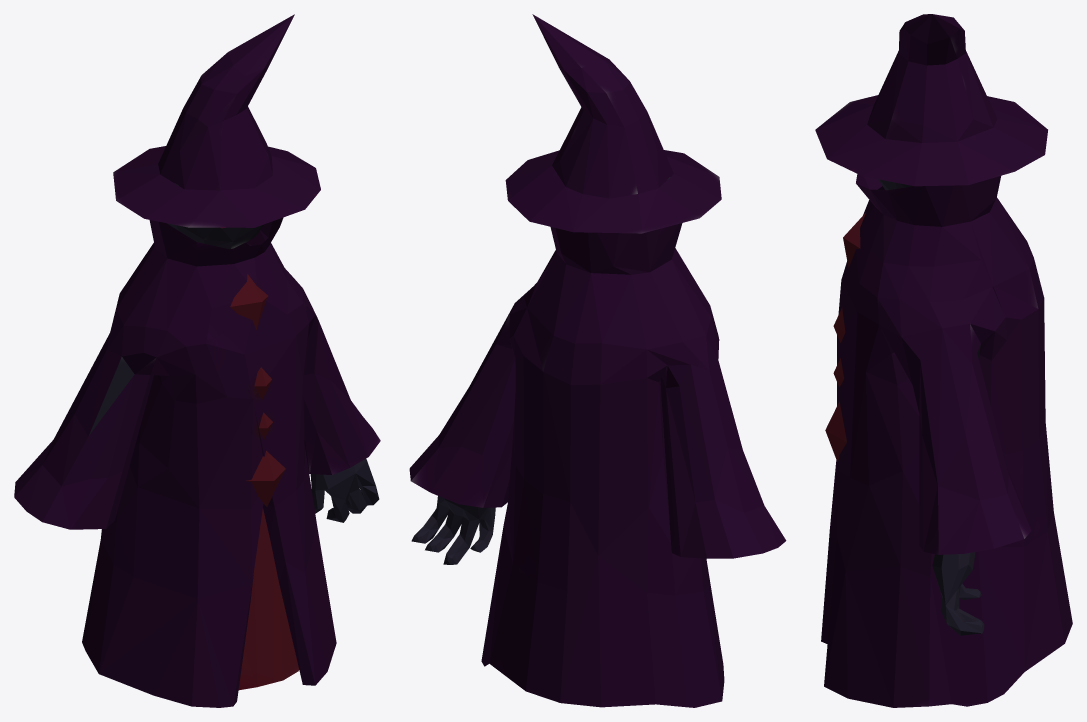
Rendered from necromancerfinal.fbx.
3 views of the same model, side by side, from view 1: azimuth 30°, elevation 25°; view 2: azimuth 150°, elevation 25°; view 3: azimuth 270°, elevation 25° (orthographic). The views are drawn at different scales.
Visible parts, largest first — view 1: pasted__pSphere2.001; view 2: pasted__pSphere2.001; view 3: pasted__pSphere2.001.
Part boxes in pixels (x1,y1,x2,y2): pasted__pSphere2.001: (14,14,380,707); pasted__pSphere2.001: (409,14,786,707); pasted__pSphere2.001: (815,14,1072,707).
Size of the model in its own units: 562 by 966 by 328.
